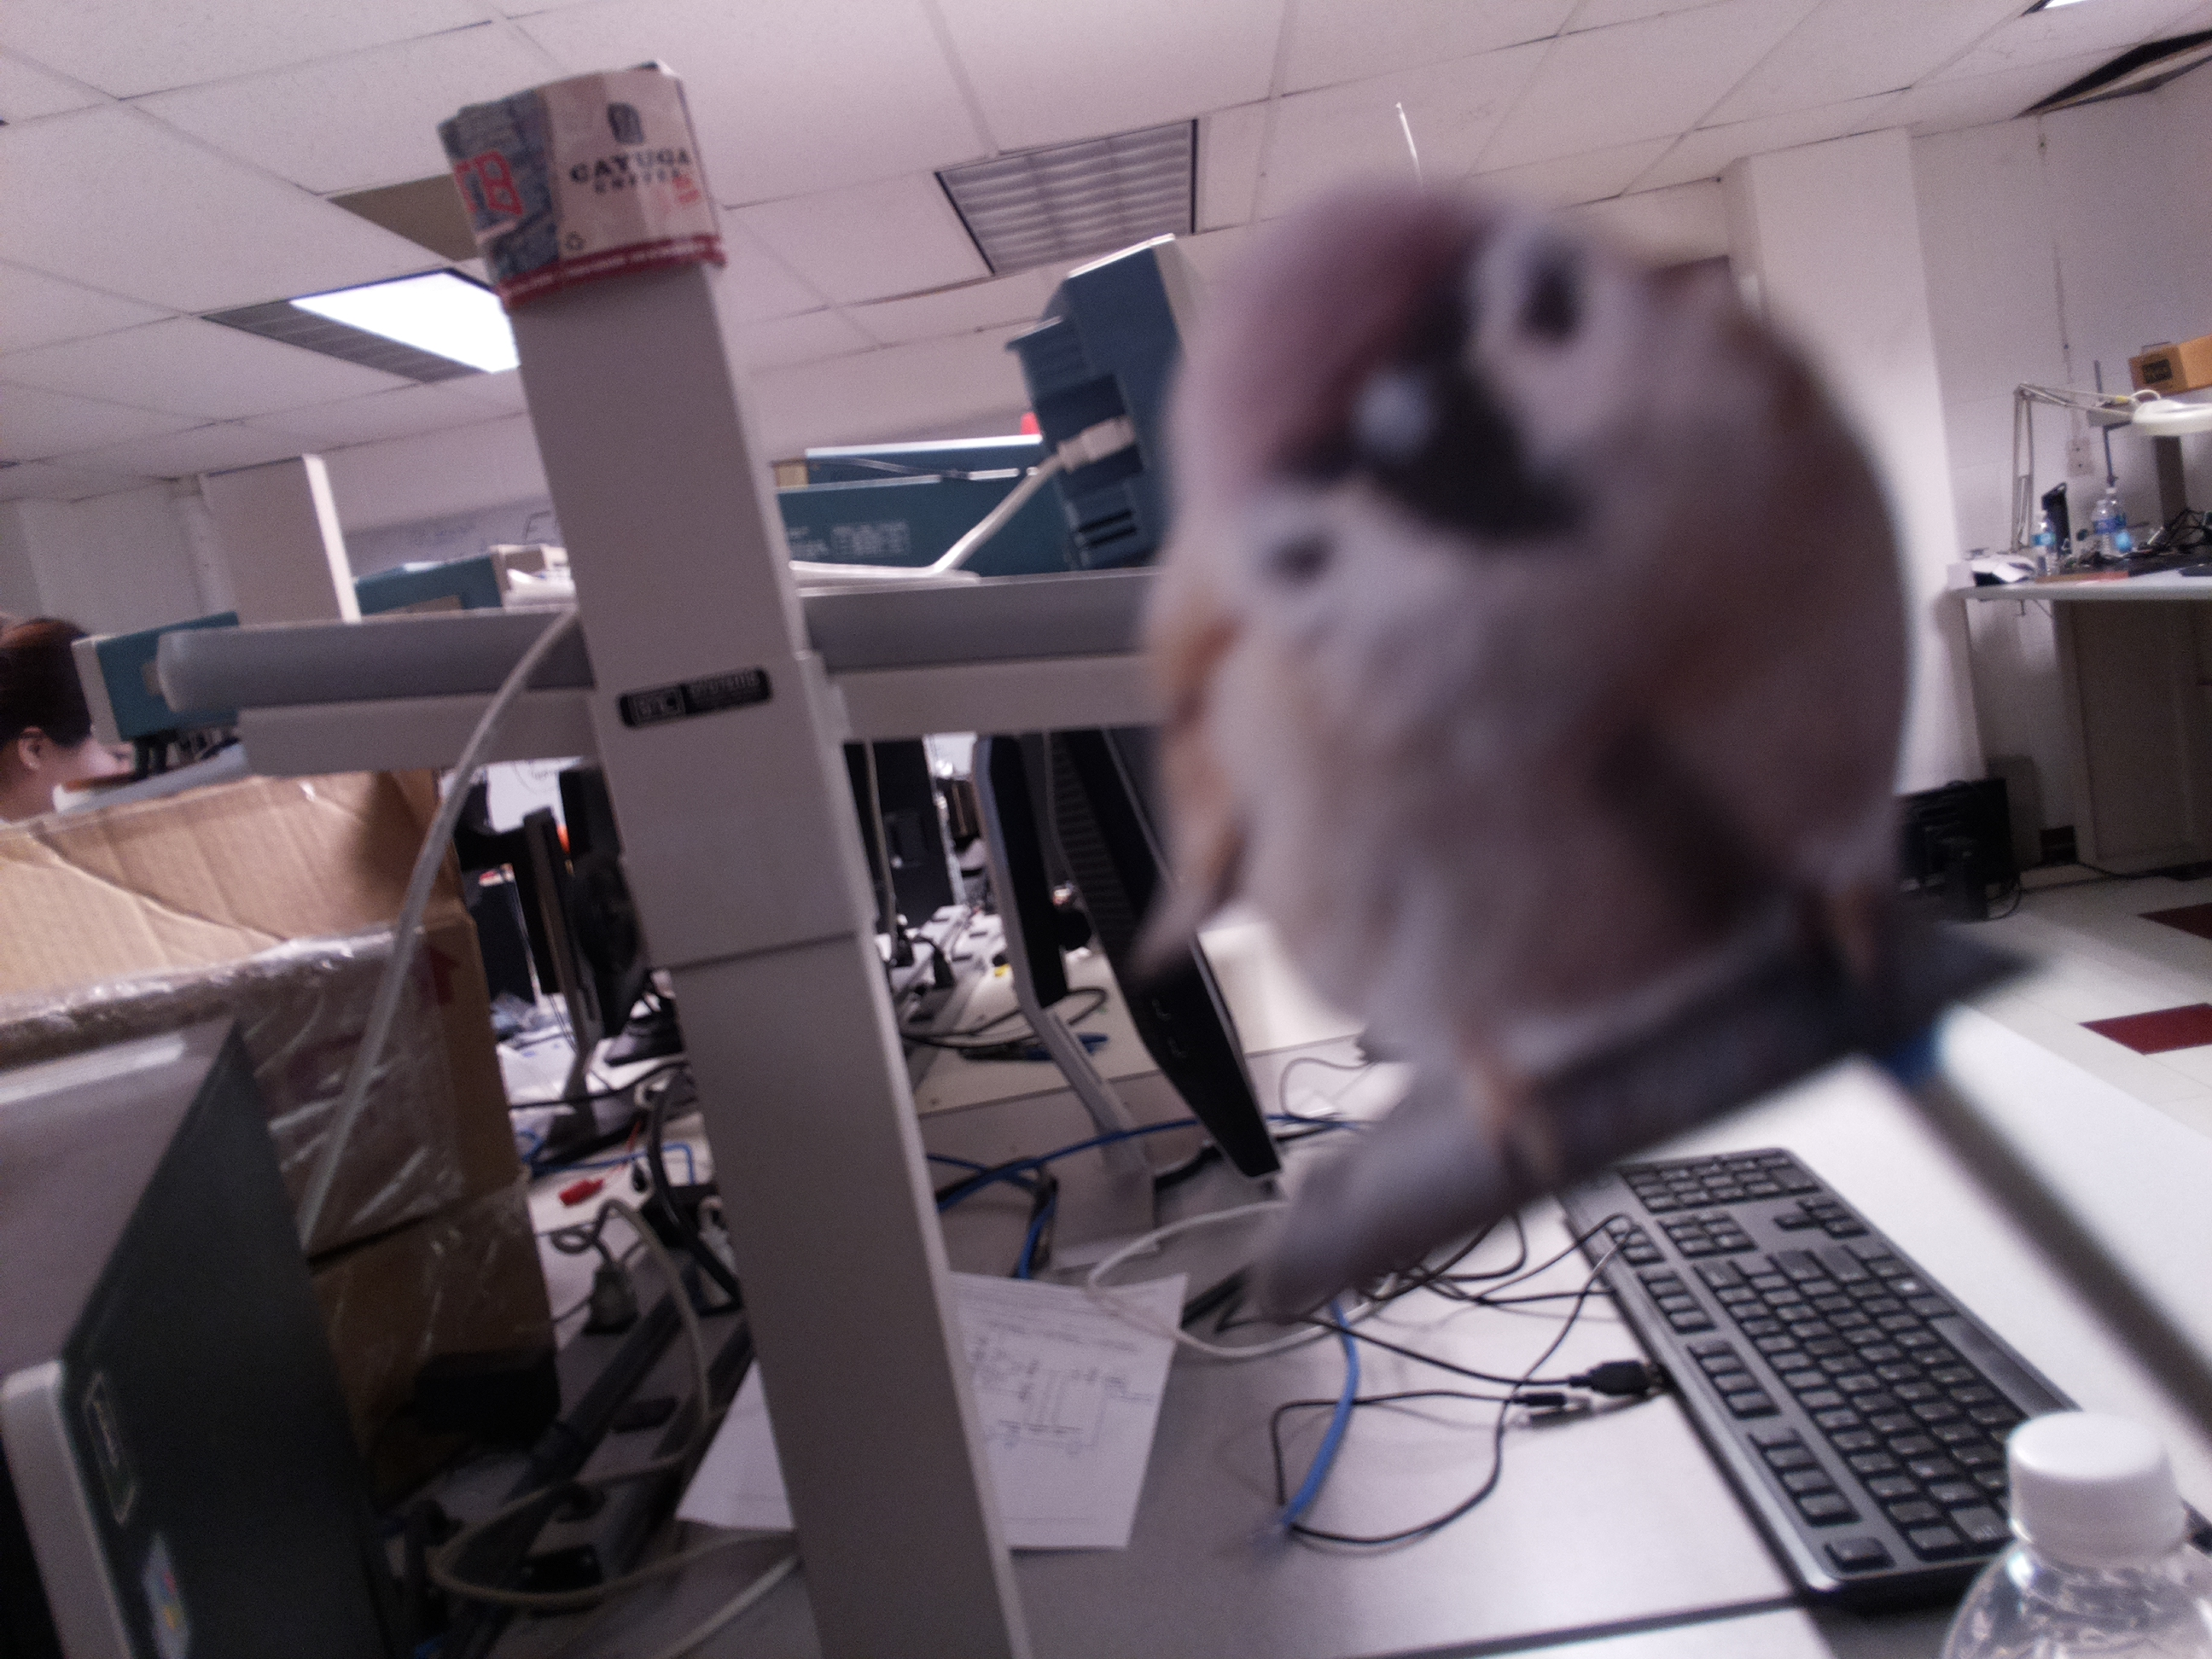bird: (1113, 166, 1914, 1215)
